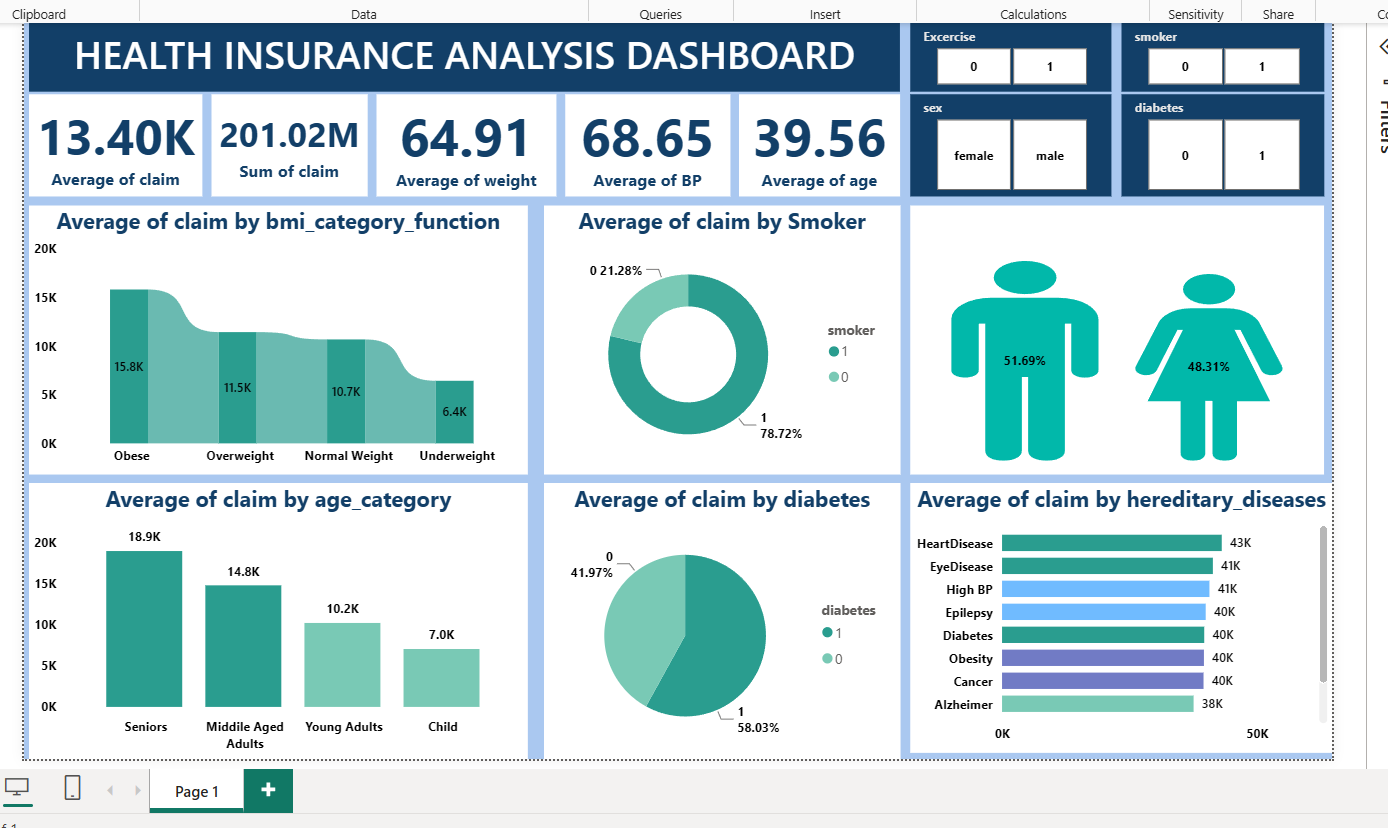

This screenshot's page, from the dashboard's own definition file:
{"tool":"powerbi","page":{"name":"Page 1","canvas":[1280,720],"ordinal":0},"visuals":[{"type":"columnChart","fields":{"Category":["Sheet1.age_category"],"Y":["Avg(Sheet1.claim)"]},"box":[4.9,450,487.9,270.2],"z":0},{"type":"barChart","fields":{"Category":["Sheet1.hereditary_diseases"],"Y":["Avg(Sheet1.claim)"]},"box":[867,450,413.3,264.1],"z":1000},{"type":"pieChart","fields":{"Category":["Sheet1.diabetes"],"Y":["Avg(Sheet1.claim)"]},"box":[508.7,450,348.5,270.2],"z":2000},{"type":"donutChart","title":"Average of claim by Smoker","fields":{"Category":["Sheet1.smoker"],"Y":["Avg(Sheet1.claim)"]},"box":[508.7,178.5,348.5,262.9],"z":3000},{"type":"ribbonChart","fields":{"Category":["Sheet1.bmi_category_function"],"Y":["Avg(Sheet1.claim)"]},"box":[4.9,178.5,487.9,262.9],"z":4000},{"type":"card","fields":{"Values":["Avg(Sheet1.claim)"]},"box":[4.9,69.7,170,100.3],"z":5000},{"type":"card","fields":{"Values":["Sum(Sheet1.claim)"]},"box":[183.4,69.7,152.9,100.3],"z":6000},{"type":"card","fields":{"Values":["Avg(Sheet1.weight)"]},"box":[344.8,69.7,176.1,100.3],"z":7000},{"type":"card","fields":{"Values":["Avg(Sheet1.bloodpressure)"]},"box":[529.5,69.7,161.4,100.3],"z":8000},{"type":"card","fields":{"Values":["Avg(Sheet1.age)"]},"box":[699.5,69.7,157.7,100.3],"z":9000},{"type":"slicer","fields":{"Values":["Sheet1.regular_ex"]},"box":[867,0,196.9,67.3],"z":10000},{"type":"textbox","box":[4.9,0,852.3,67.3],"z":11000},{"type":"slicer","fields":{"Values":["Sheet1.smoker"]},"box":[1073.6,0,198.1,67.3],"z":12000},{"type":"PBI_CV_73744D90_4DC9_4F18_8BA5_EE8FA5C98035","fields":{"Values":["Sum(Sheet1.claim)"],"Category":["Sheet1.sex"]},"box":[867,178.5,404.8,262.9],"z":13000},{"type":"slicer","fields":{"Values":["Sheet1.sex"]},"box":[867,69.7,196.9,100.3],"z":14000},{"type":"slicer","fields":{"Values":["Sheet1.diabetes"]},"box":[1073.6,69.7,198.1,100.3],"z":15000}]}

Visuals, with their boxes in screenshot pixels (x1, y1, x2, y2):
columnChart - Sheet1.age_category x Avg(Sheet1.claim): [20,482,523,761]
barChart - Sheet1.hereditary_diseases x Avg(Sheet1.claim): [909,482,1335,755]
pieChart - Sheet1.diabetes x Avg(Sheet1.claim): [539,482,899,761]
"Average of claim by Smoker" donutChart: [539,202,899,473]
ribbonChart - Sheet1.bmi_category_function x Avg(Sheet1.claim): [20,202,523,473]
card - Avg(Sheet1.claim): [20,90,195,193]
card - Sum(Sheet1.claim): [204,90,361,193]
card - Avg(Sheet1.weight): [370,90,552,193]
card - Avg(Sheet1.bloodpressure): [561,90,727,193]
card - Avg(Sheet1.age): [736,90,899,193]
slicer - Sheet1.regular_ex: [909,18,1112,87]
textbox: [20,18,899,87]
slicer - Sheet1.smoker: [1122,18,1326,87]
PBI_CV_73744D90_4DC9_4F18_8BA5_EE8FA5C98035 - Sum(Sheet1.claim) x Sheet1.sex: [909,202,1326,473]
slicer - Sheet1.sex: [909,90,1112,193]
slicer - Sheet1.diabetes: [1122,90,1326,193]
